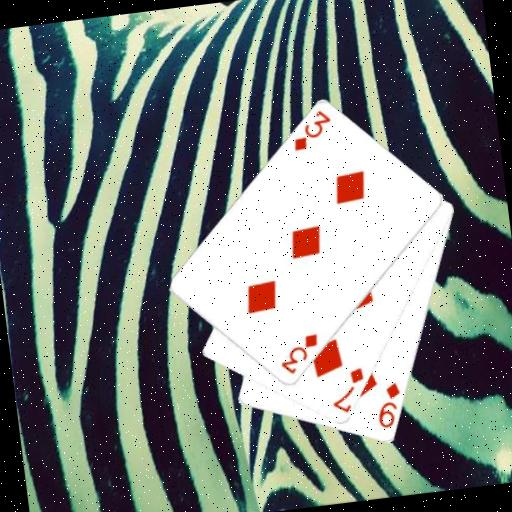3D: (274, 330, 324, 378), (286, 107, 336, 154)
7D: (326, 364, 370, 415)
9D: (371, 379, 406, 431)
